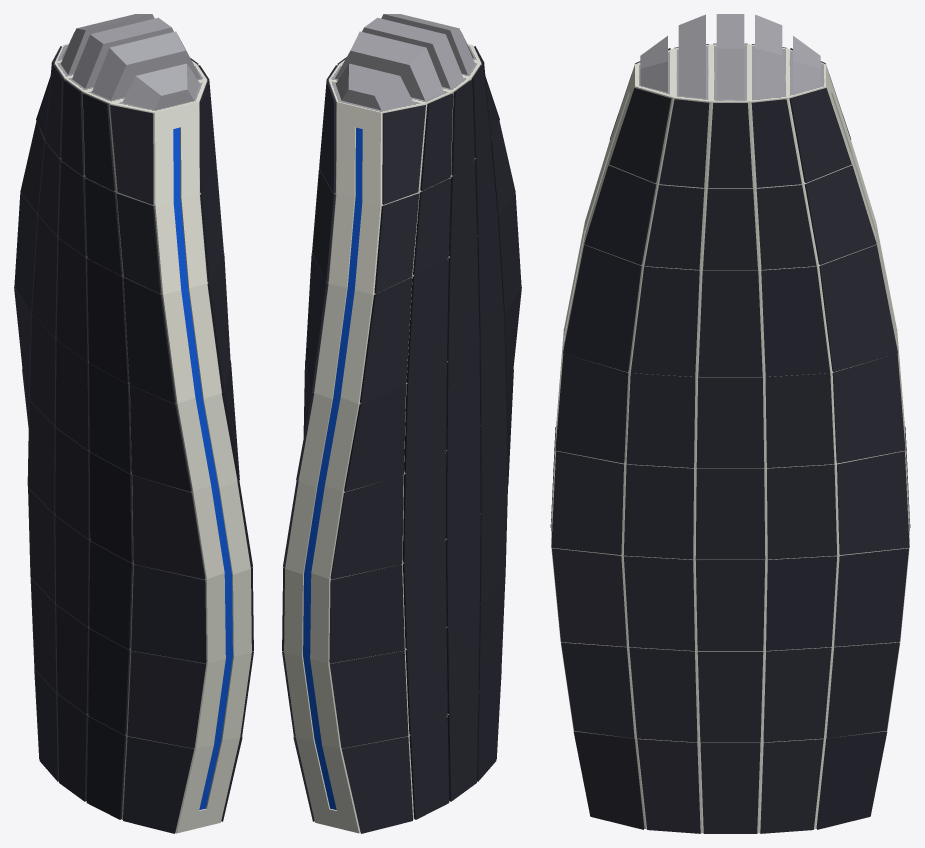
The model's file is SensesCentre.FBX.
The picture shows the model from 3 angles, left to right: view 1: azimuth 30°, elevation 25°; view 2: azimuth 150°, elevation 25°; view 3: azimuth 270°, elevation 25°; orthographic projection. The views are drawn at different scales.
Visible parts, largest first — view 1: SensesCentre; view 2: SensesCentre; view 3: SensesCentre.
Part boxes in pixels (left/top/right/bottom): SensesCentre: left=14, top=14, right=253, bottom=833; SensesCentre: left=282, top=14, right=521, bottom=833; SensesCentre: left=550, top=14, right=910, bottom=833.
Size of the model in its own units: 52.31 by 317 by 134.
